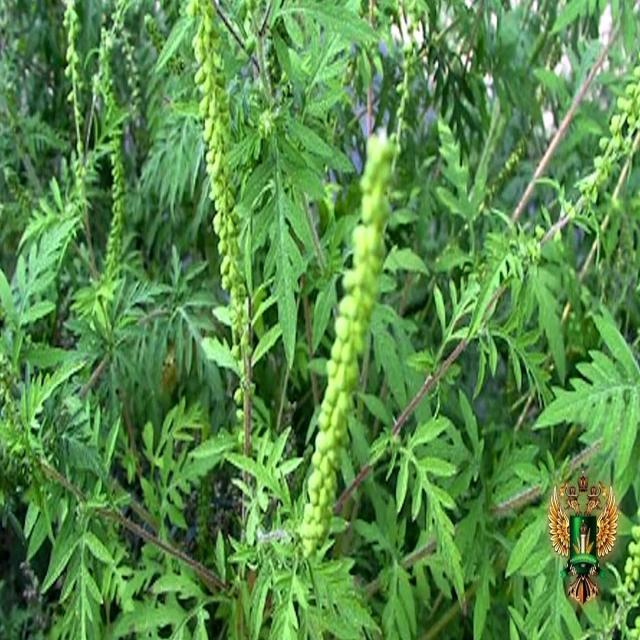ambrosia: (312, 125, 402, 626), (175, 4, 261, 389), (59, 4, 135, 345), (554, 59, 640, 273)
